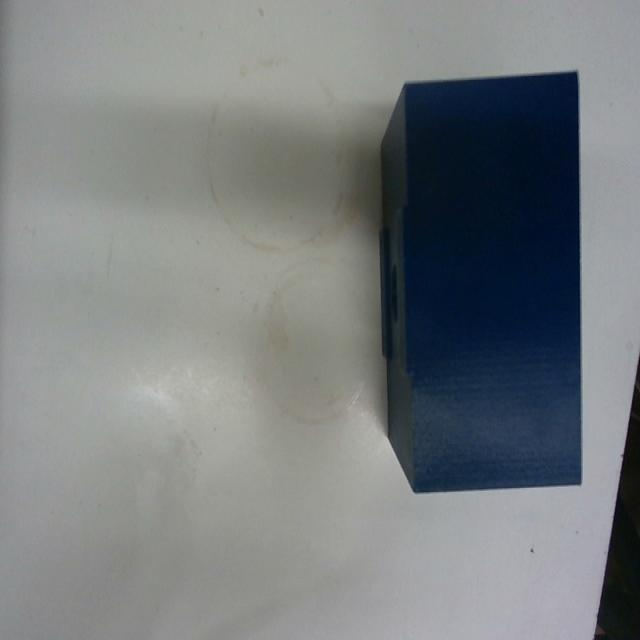Blue Cuboid: (376, 67, 584, 494)
